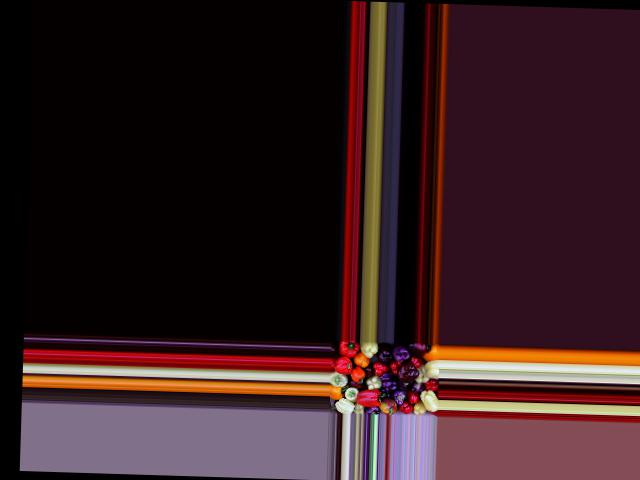bell_pepper: (330, 372, 349, 385)
